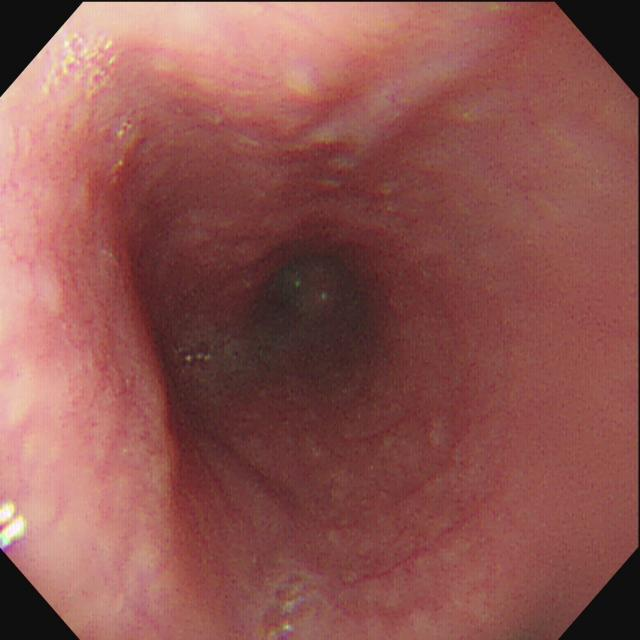A: (64, 222, 194, 506)
E: (241, 236, 366, 372)
T: (46, 34, 120, 92)
U: (2, 501, 29, 550)
